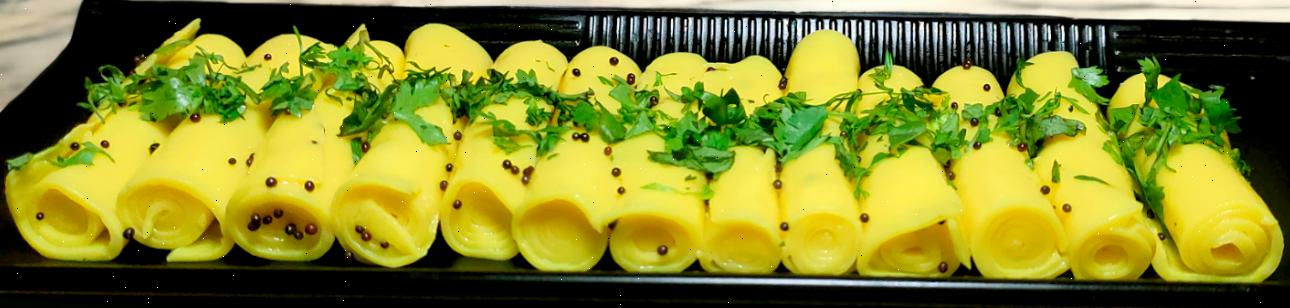khandvi: (13, 26, 1284, 276)
